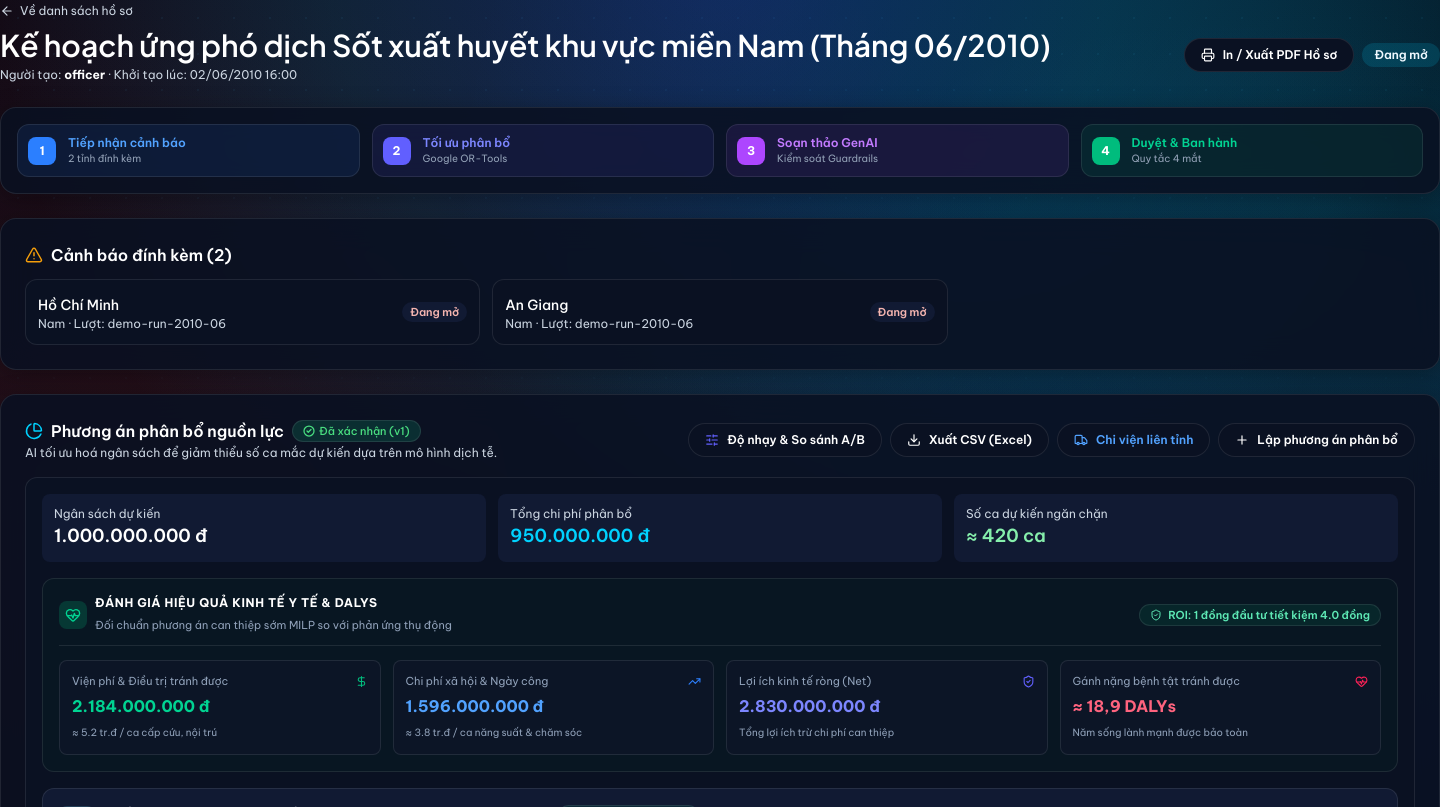
Test: CaseDetailPage (S7 Chi tiết hồ sơ & S8 Phân bổ nguồn lực) › cho phép officer mở modal lập phương án phân bổ mới
The image size is (1440, 807).
Check: the heading "Kế hoạch ứng phó dịch Sốt xuất huyết khu vực miền Nam (Tháng 06/2010)" is shown, box [0,27,1051,63]
Click the button "Lập phương án phân bổ".
click(1317, 440)  # box [1218,423,1415,457]
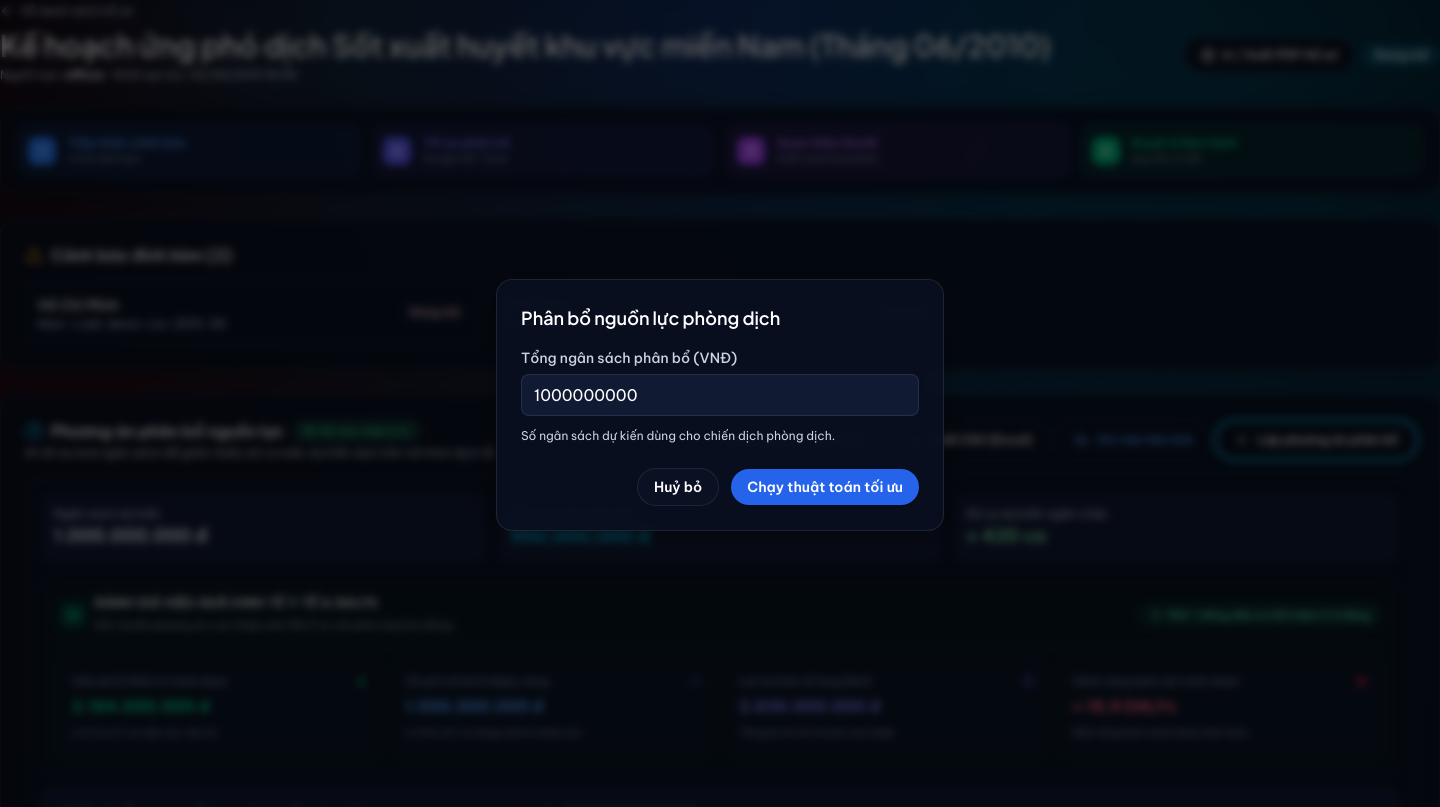
Check: the heading "Phân bổ nguồn lực phòng dịch" is shown, box [521,306,780,329]
Click the button "Huỷ bỏ".
click(678, 487)  # box [637,468,719,506]
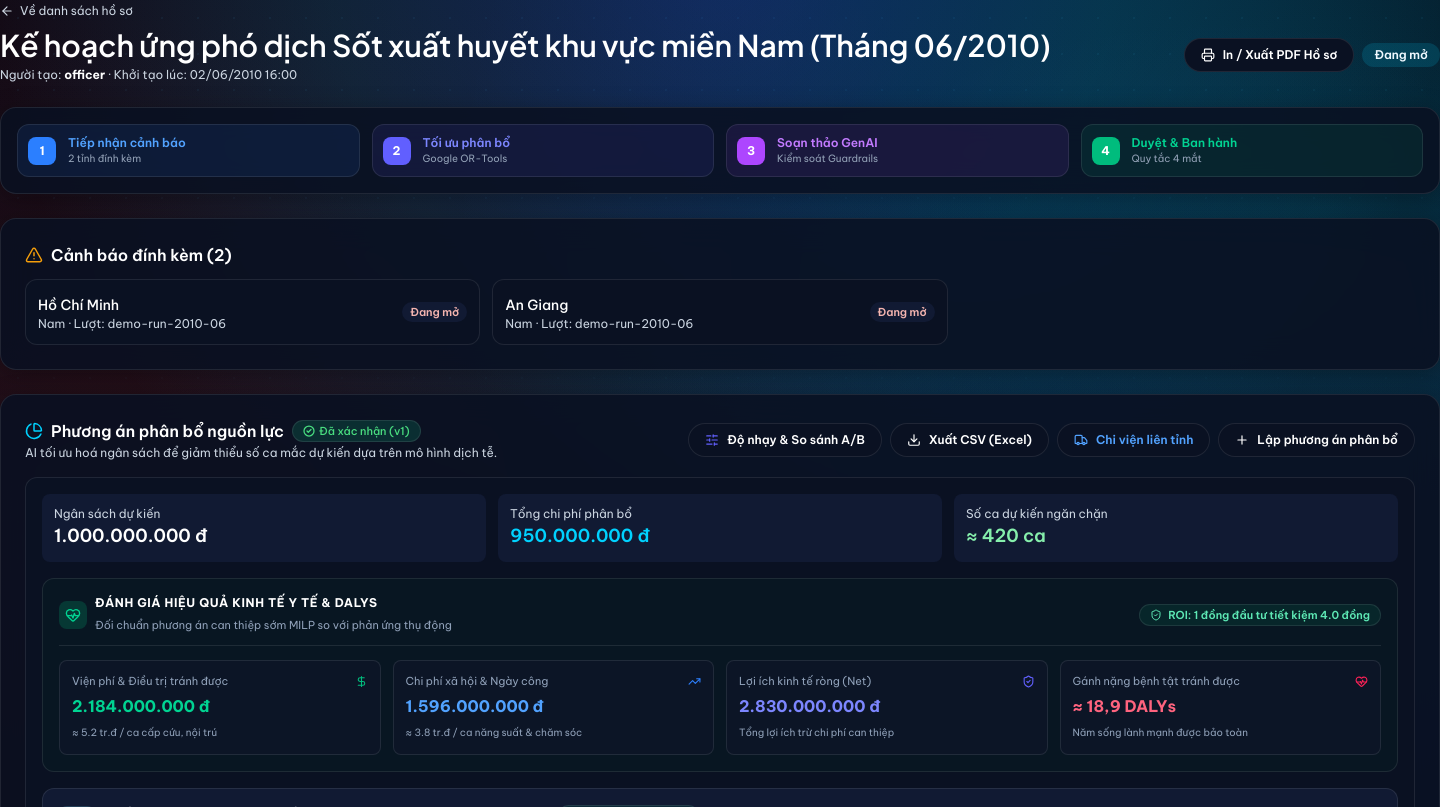
Check: the dialog is gone
